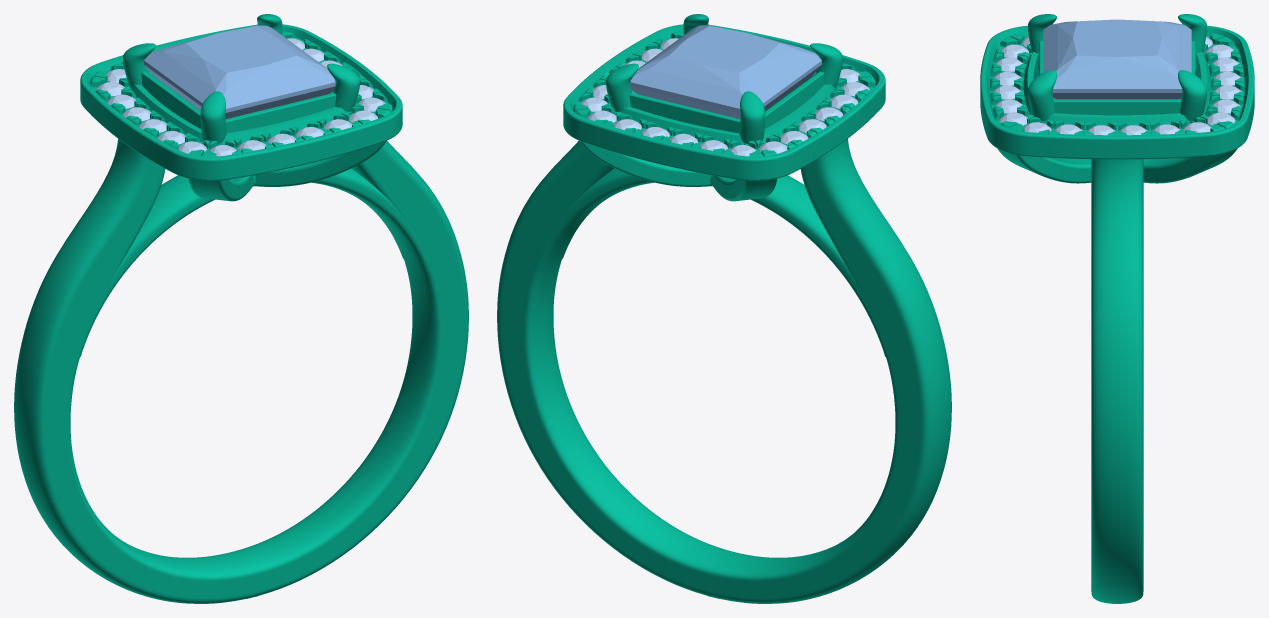
The picture shows the model from 3 angles, left to right: view 1: azimuth 30°, elevation 25°; view 2: azimuth 150°, elevation 25°; view 3: azimuth 270°, elevation 25°; orthographic projection.
Visible parts, largest first — view 1: JTC 11096(front).3dm, Diamond_Princess; view 2: JTC 11096(front).3dm, Diamond_Princess; view 3: JTC 11096(front).3dm, Diamond_Princess.
Boxes of the visible parts, x1=… form: JTC 11096(front).3dm: x1=14, y1=14, x2=468, y2=603; Diamond_Princess: x1=144, y1=25, x2=335, y2=118; JTC 11096(front).3dm: x1=497, y1=14, x2=951, y2=603; Diamond_Princess: x1=630, y1=25, x2=821, y2=118; JTC 11096(front).3dm: x1=980, y1=14, x2=1254, y2=603; Diamond_Princess: x1=1043, y1=19, x2=1191, y2=99.
Size of the model in its own units: 2.44 by 2.88 by 1.32.
